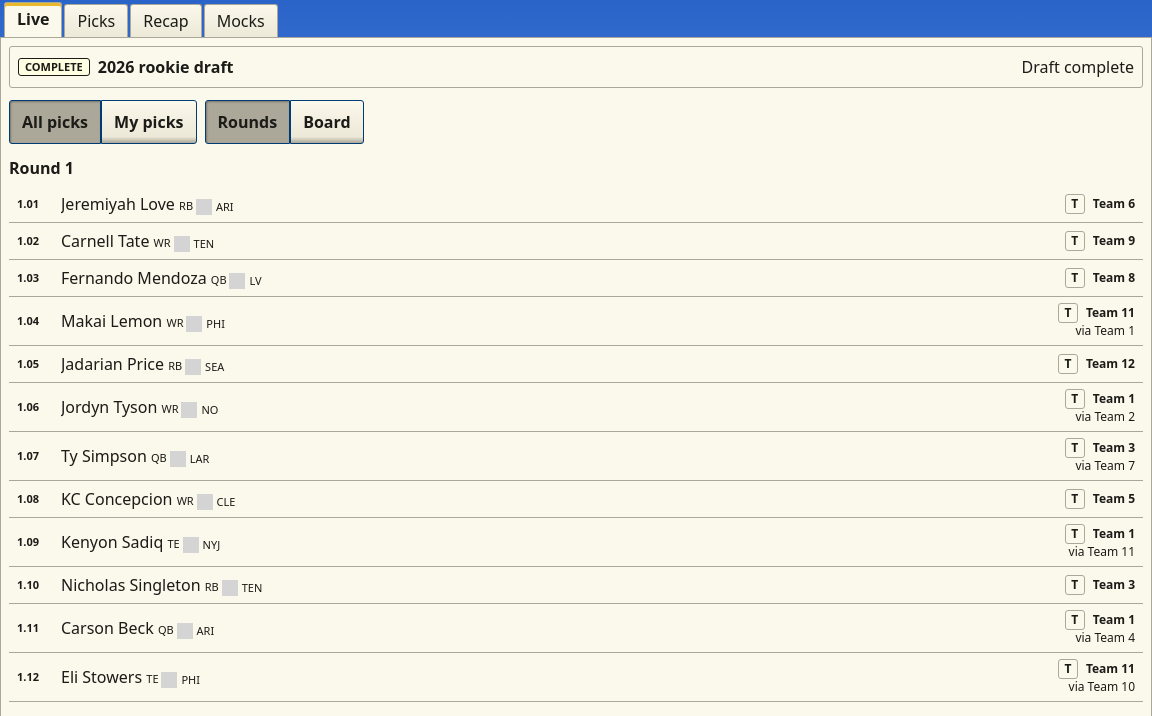
Scenario: Draft History: Live › lays the draft out as a board
Click the button "Board" at point(327, 122), box [290,100,364,144]
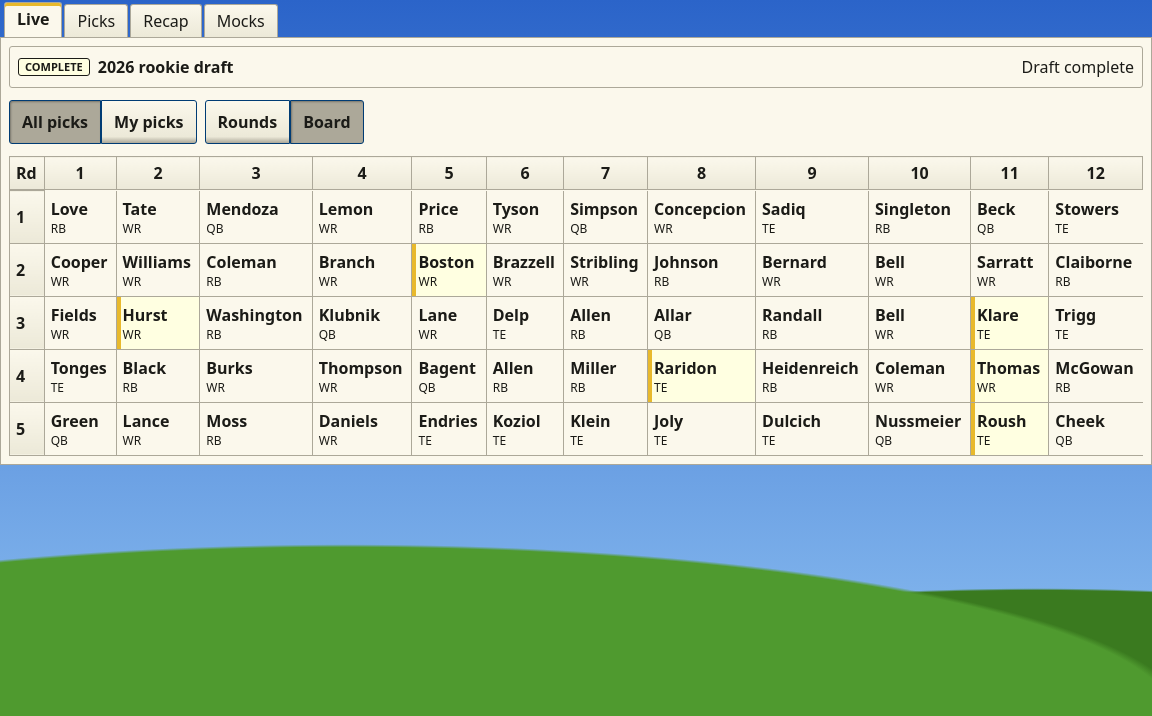
Expected: the cell "Love RB" is shown, [44,190,116,243]
Now the number of rows is 6, box [10,156,1142,190]; [10,190,1142,243]; [10,243,1142,296]; [10,296,1142,349]; [10,349,1142,402]; [10,402,1142,455]
